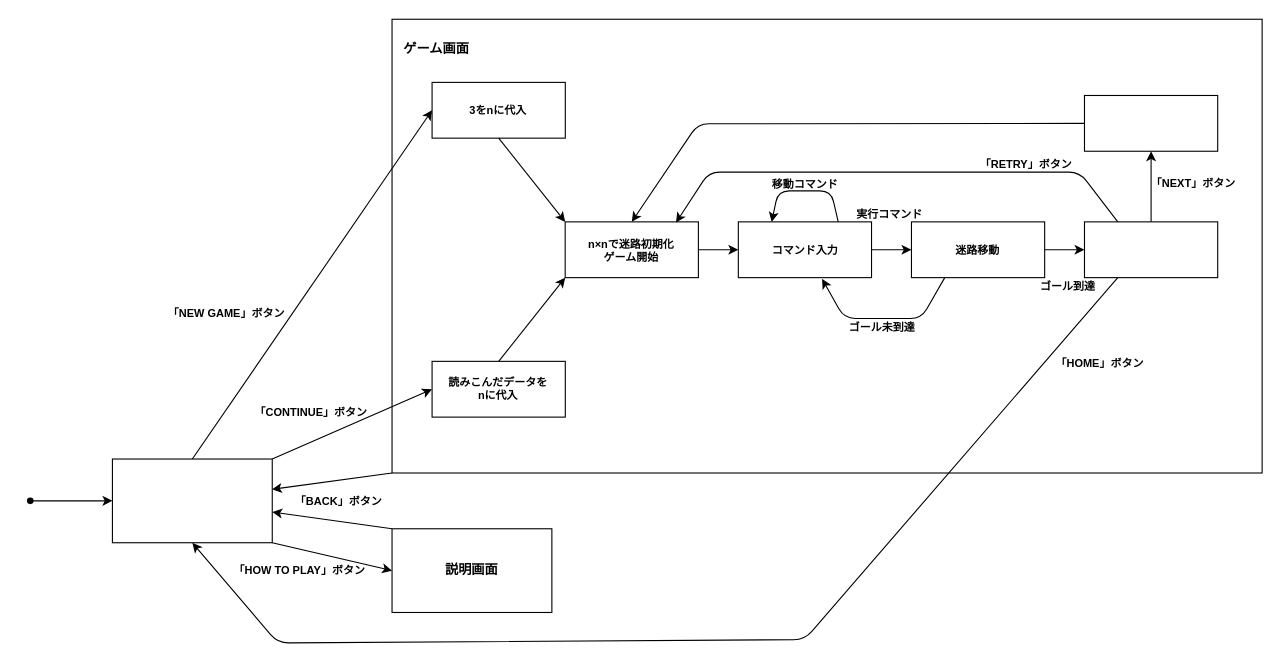
Some shapes in this 1282 by 671 pixel diagram are drawn without their labels. Here are the shapes that lost their labels. From the top down, the centre of each, then its label:
the point at 1150,122: nを1加算する
the point at 1150,249: クリアモーダル オープン
the point at 191,500: ホーム画面
